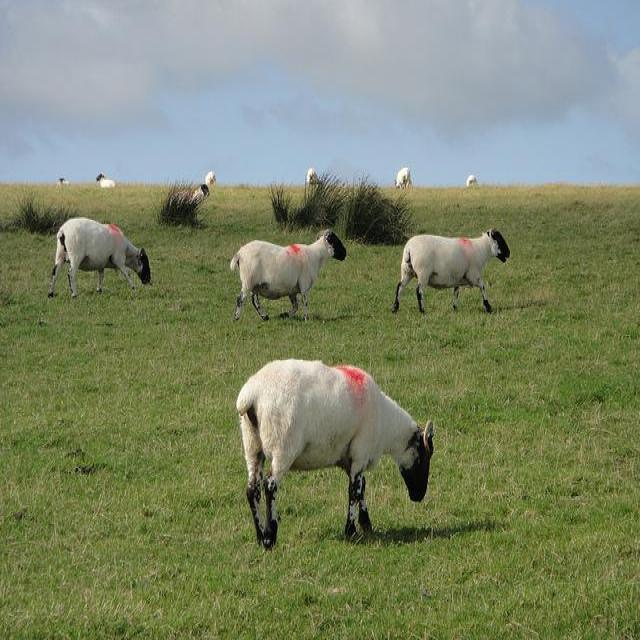Sheep: (237, 358, 434, 550), (230, 229, 347, 323), (393, 228, 512, 315), (50, 219, 152, 300)
